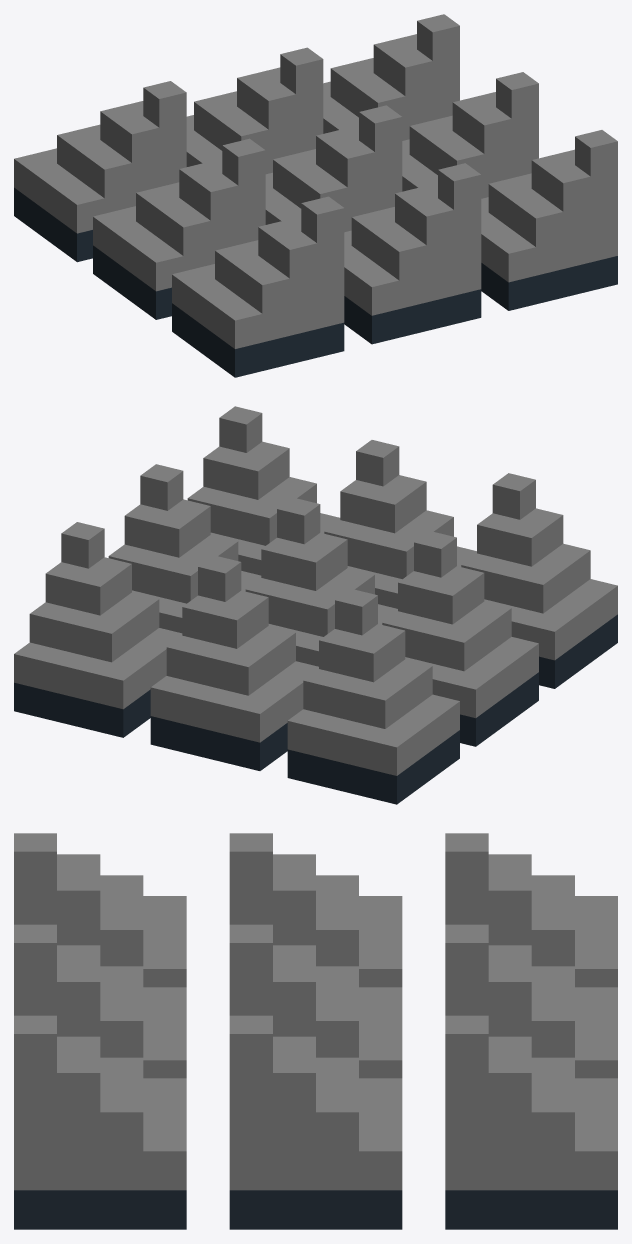
Rendered from spikes_enabled.obj.
The picture shows the model from 3 angles, top to bottom: view 1: azimuth 30°, elevation 25°; view 2: azimuth 150°, elevation 25°; view 3: azimuth 270°, elevation 25°; orthographic projection. The views are drawn at different scales.
Size of the model in its own units: 1.4 by 0.5 by 1.4.
